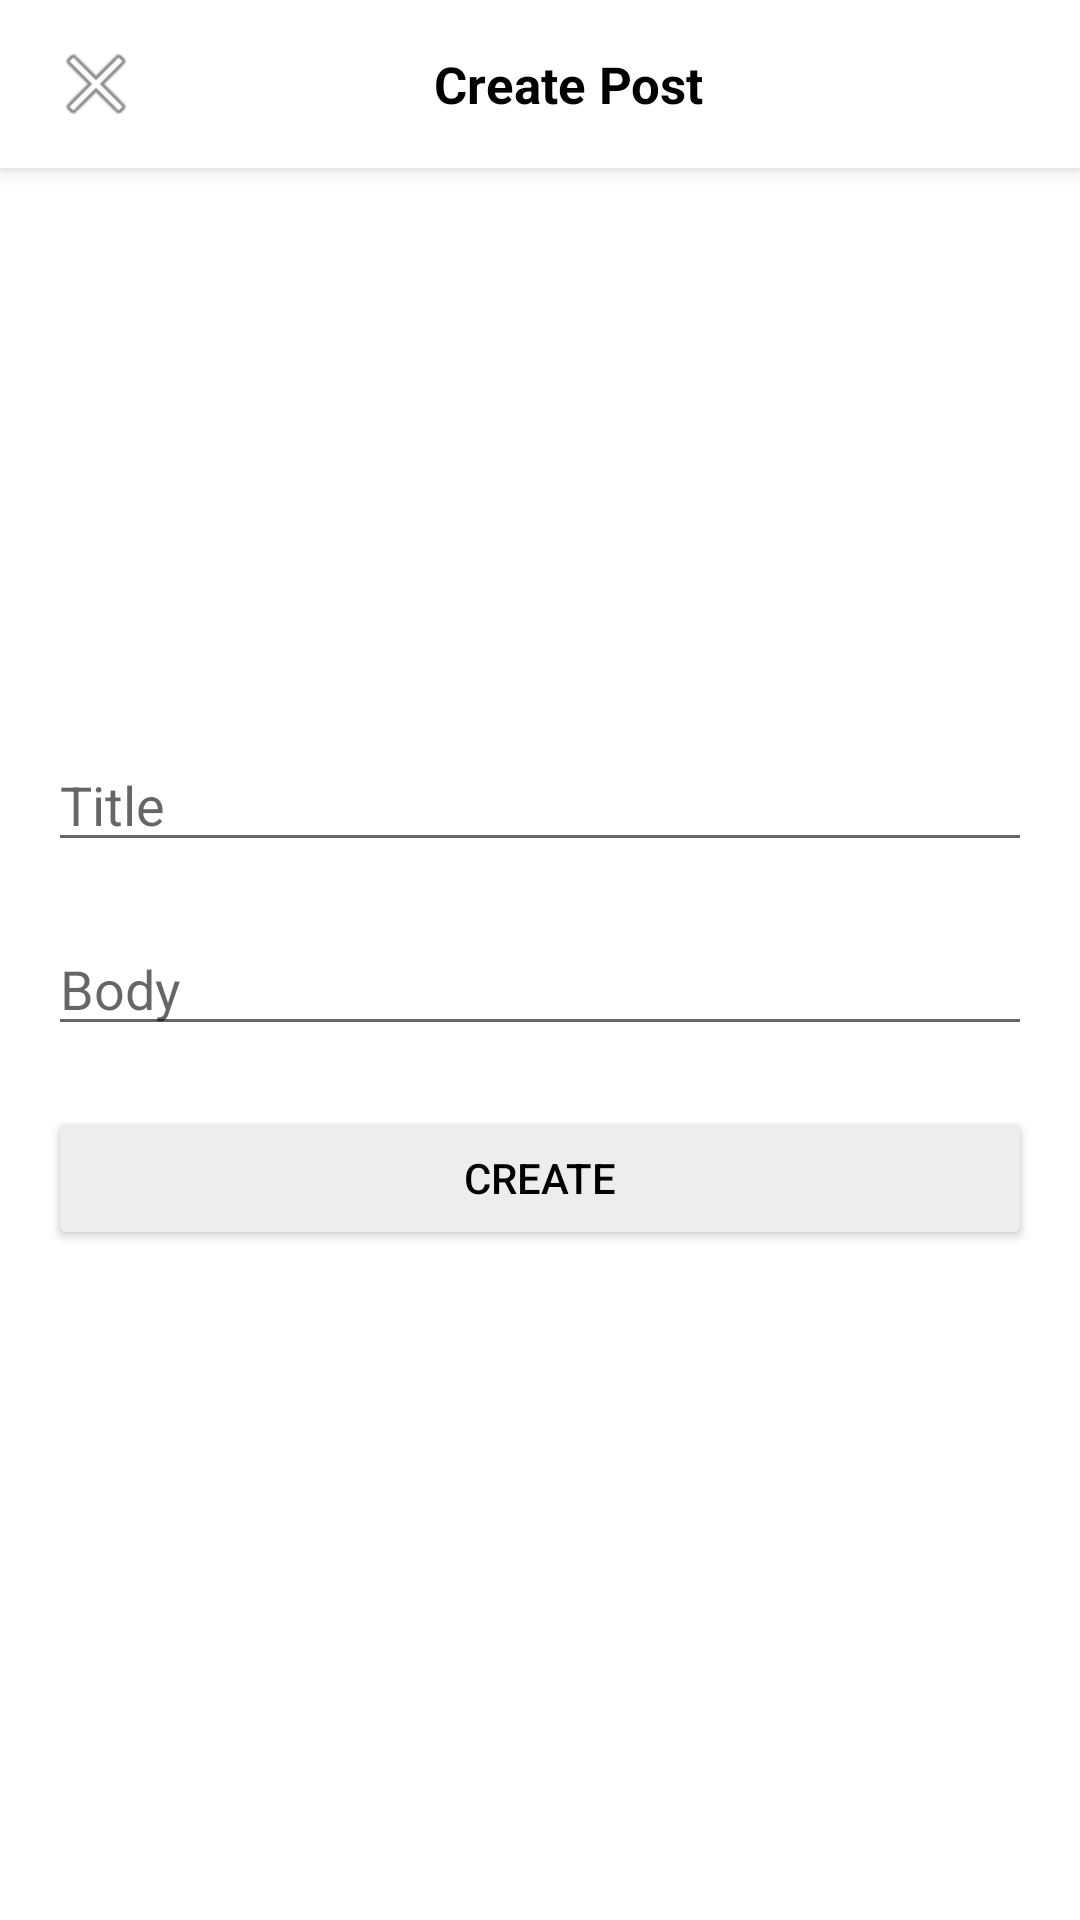

Icon click points for this 1080px×1920px phone screenshot, format (x=x, y=y):
close clear cancel: (x=96, y=84)
